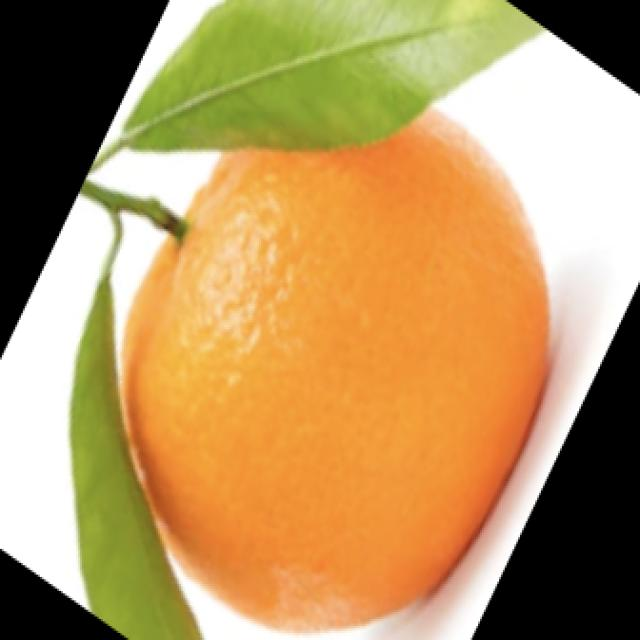orange: (109, 93, 567, 601)
